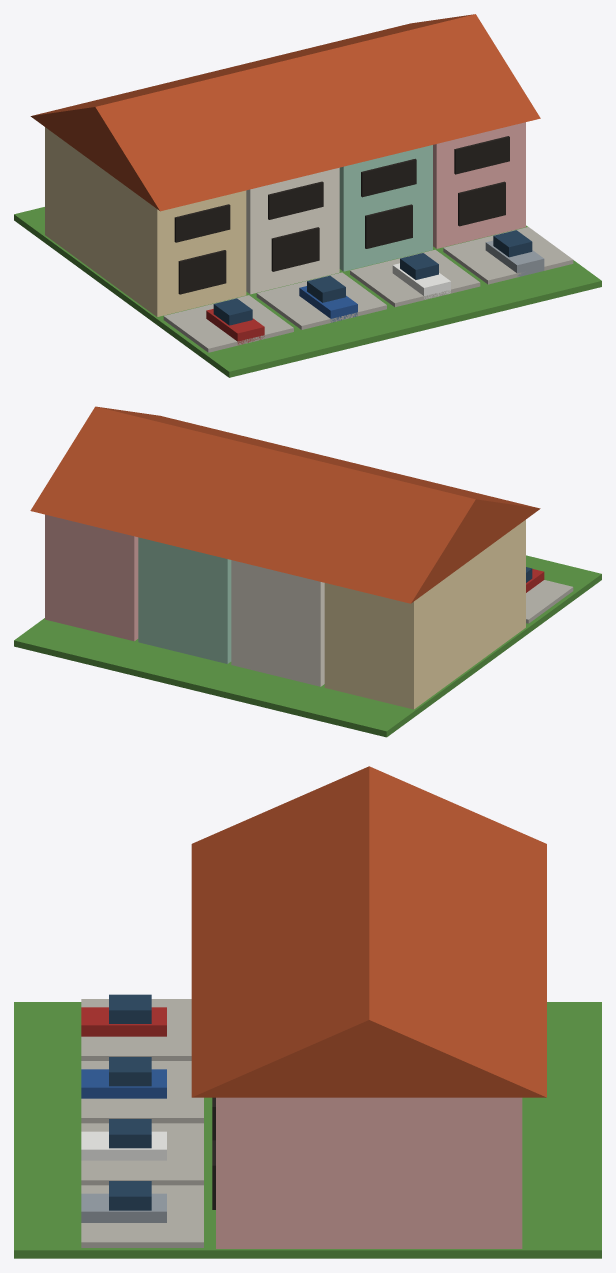
File: zone_R_d2_e3.glb
The picture shows the model from 3 angles, top to bottom: view 1: azimuth 30°, elevation 25°; view 2: azimuth 150°, elevation 25°; view 3: azimuth 270°, elevation 25°; orthographic projection. The views are drawn at different scales.
Visible parts, largest first — view 1: zone_R_d2_e3; view 2: zone_R_d2_e3; view 3: zone_R_d2_e3.
Part boxes in pixels (<box>): zone_R_d2_e3: <box>14,14,601,377</box>; zone_R_d2_e3: <box>14,406,601,737</box>; zone_R_d2_e3: <box>14,766,601,1258</box>.
Size of the model in its own units: 0.98 by 0.435 by 0.96.
